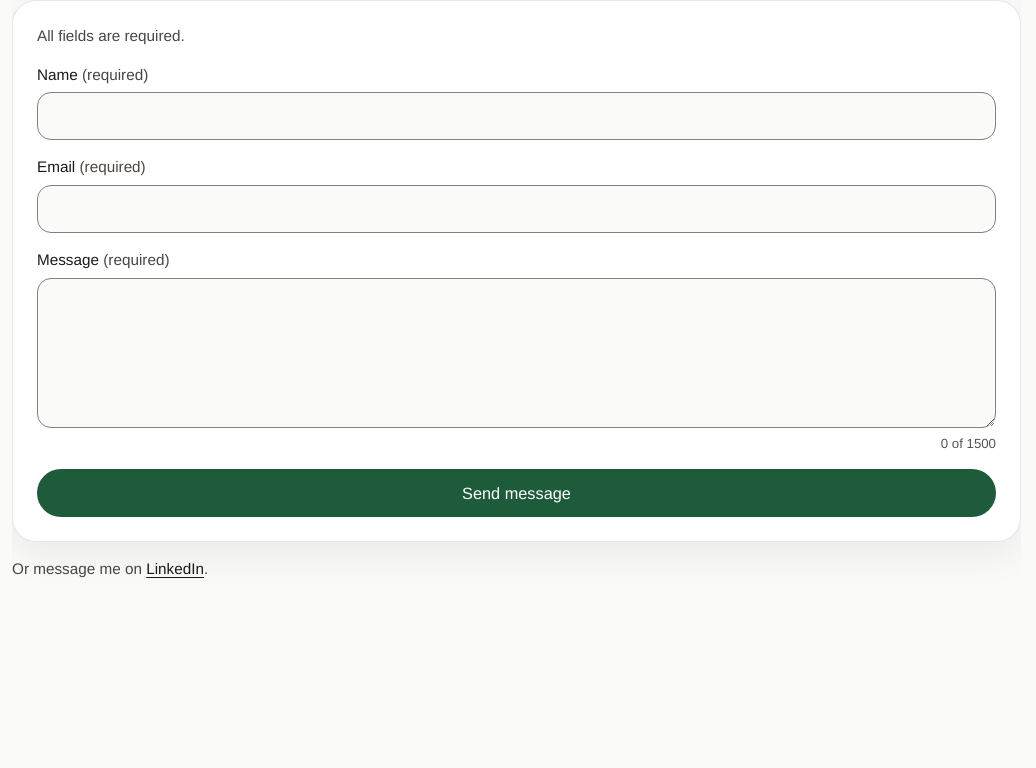
ContactForm › when the request never reaches a server, says so instead of advising a wait
Type "Ada Lovelace" into the field labelled "Name (required)" at (516, 116), box [37,92,996,140]
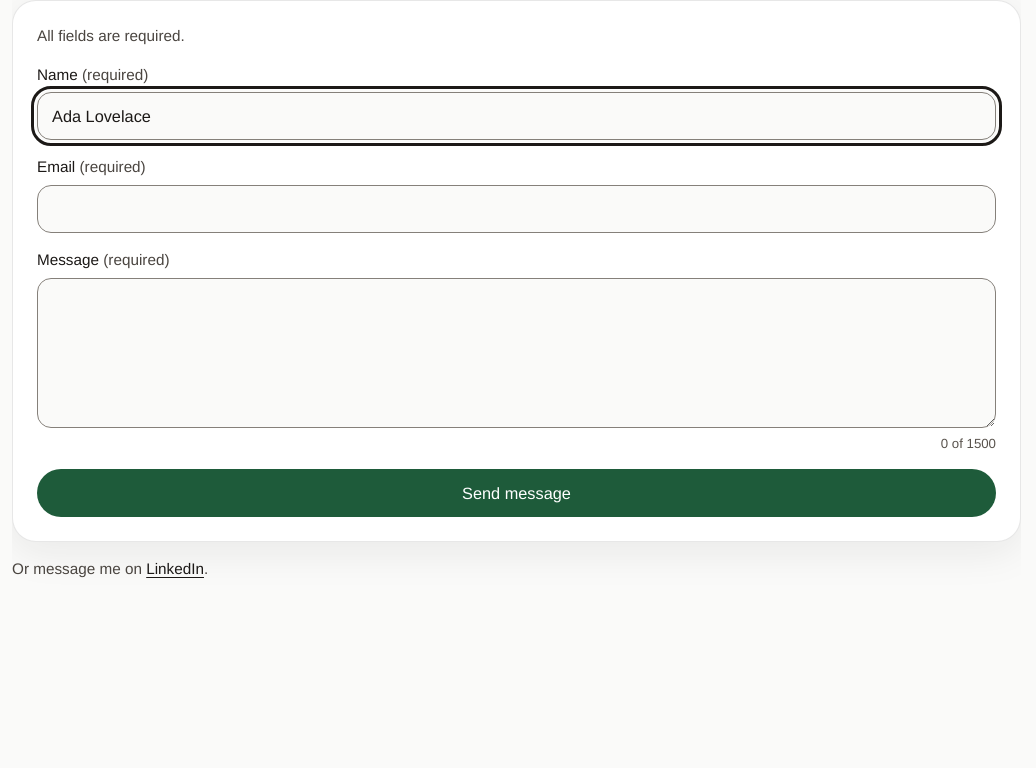
Type "ada@example.com" into the field labelled "Email (required)" at (516, 209), box [37,185,996,233]
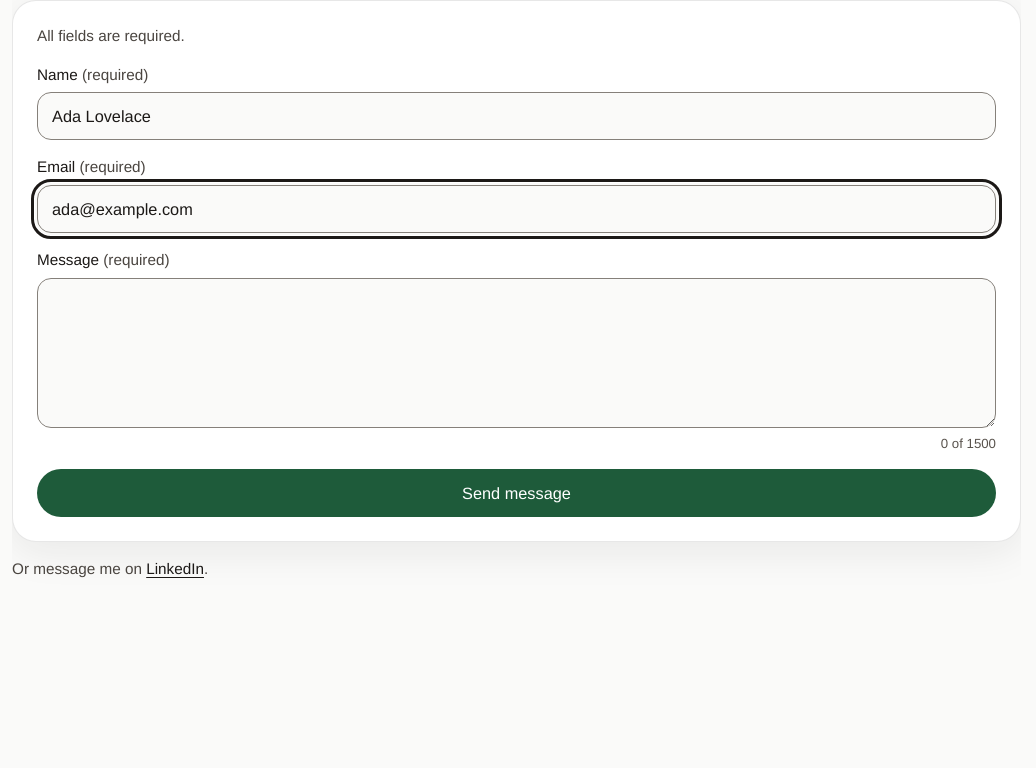
Type "Hello there." into the text box labelled "Message (required)" at (516, 353), box [37,278,996,428]
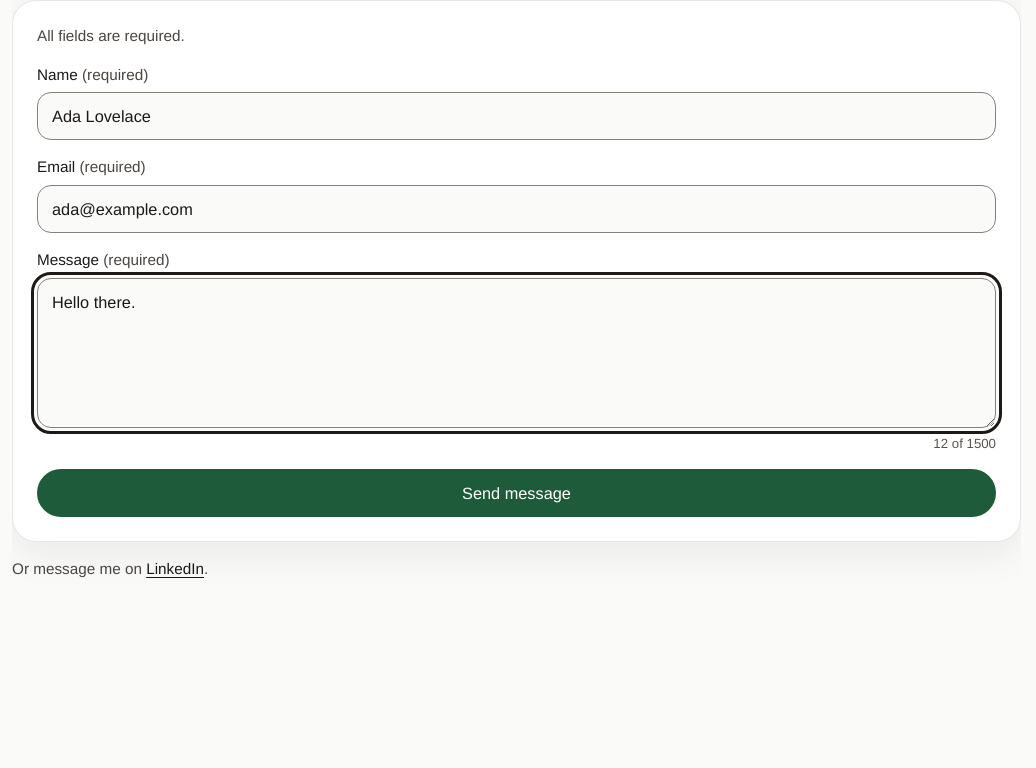
Click the button "Send message" at (516, 493), box [37,469,996,517]
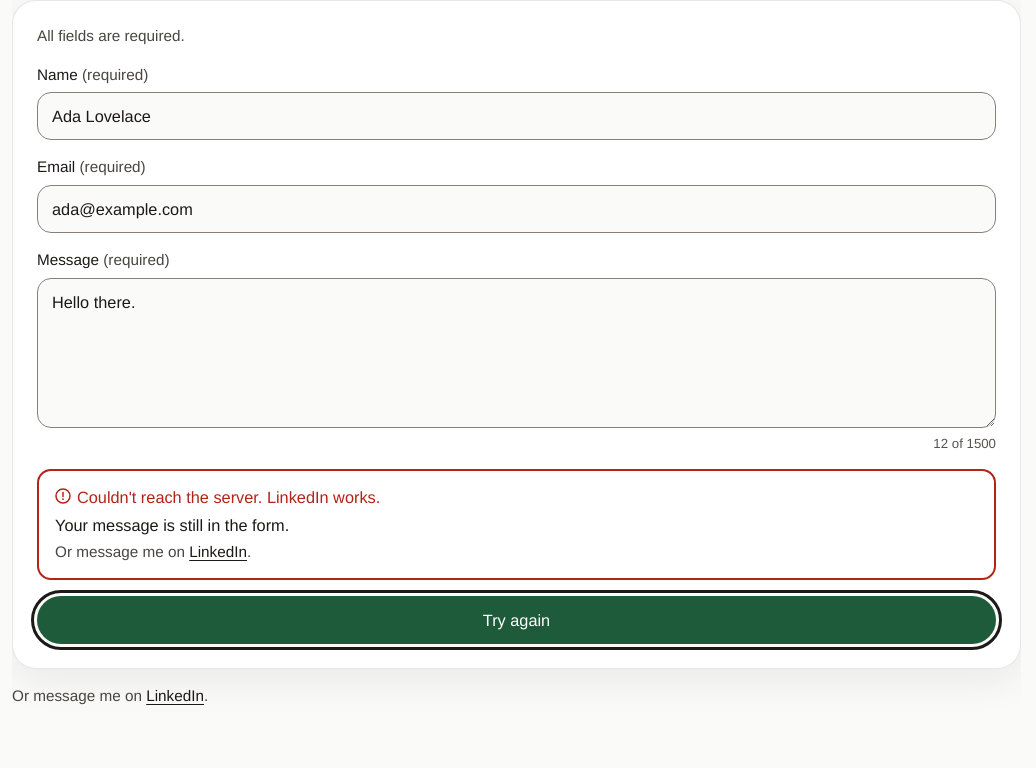
Check: the message does not show "Try again in a minute", box [37,469,996,580]
Check: the message shows "Couldn't reach the server. LinkedIn works.", box [77,488,380,506]
Check: the link "LinkedIn" below "Your message is still in the form." is shown, box [189,543,247,560]
